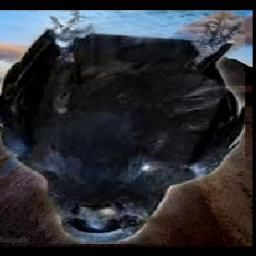Crow: (0, 11, 245, 245)
